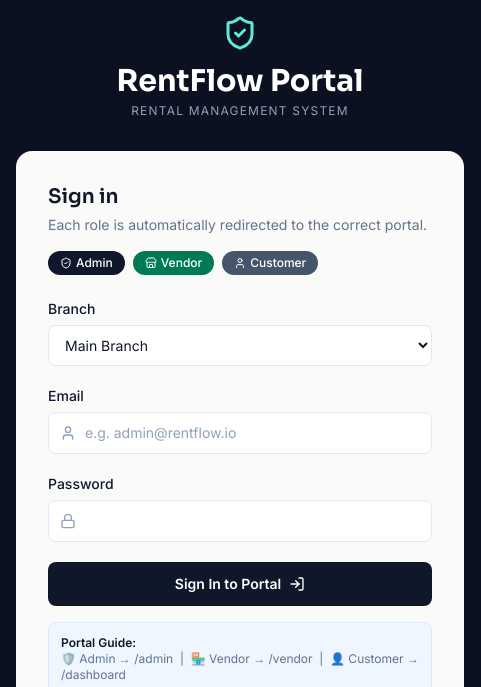
Scenario: Standard user authentication and RBAC › shows a validation error on failed login
Select "Gandhinagar" in the dropdown with test id "login-branch". click: (240, 346)
box: [48,325,432,366]
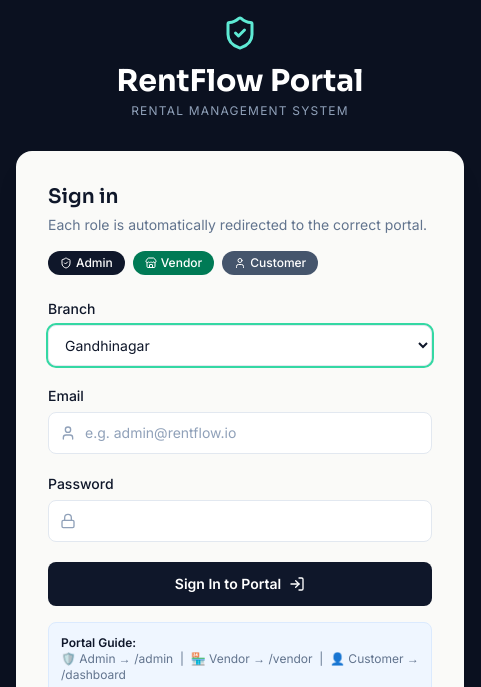
Type "devon@example.com" into the field with test id "login-identifier". click: (240, 433)
box: [48,412,432,454]
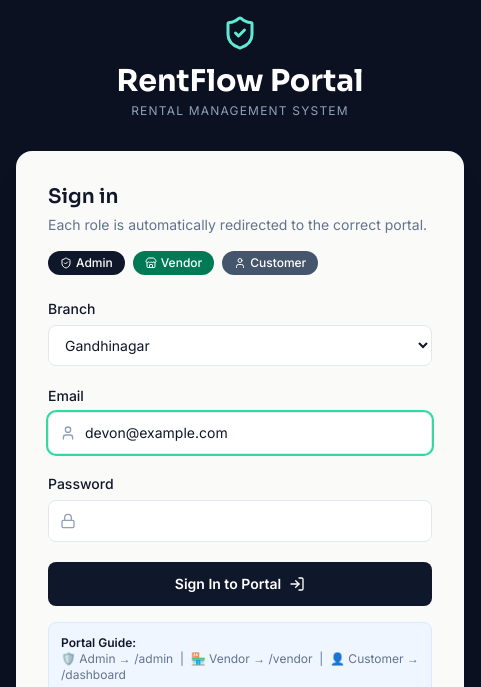
Type "wrong-password" into the password field with test id "login-password". click: (240, 521)
box: [48,500,432,542]
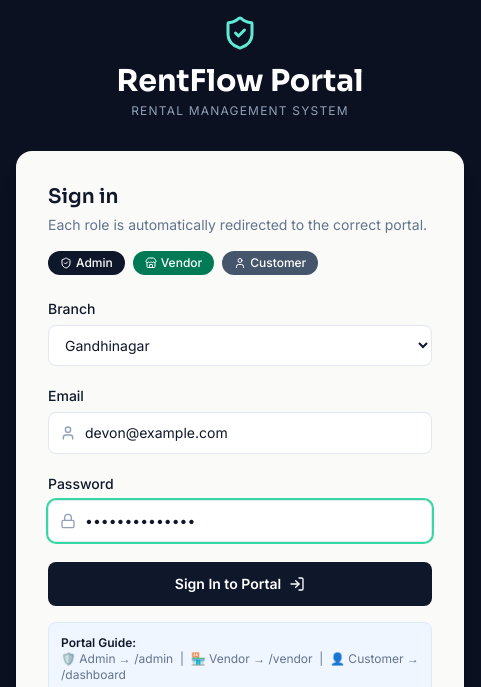
Click the button with test id "login-submit". click: (240, 584)
box: [48,562,432,606]
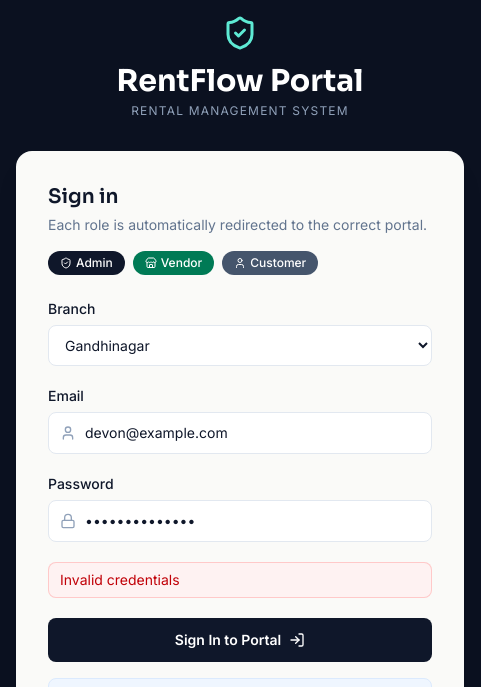
Now the message "Invalid credentials" is shown, box [48,562,432,598]
